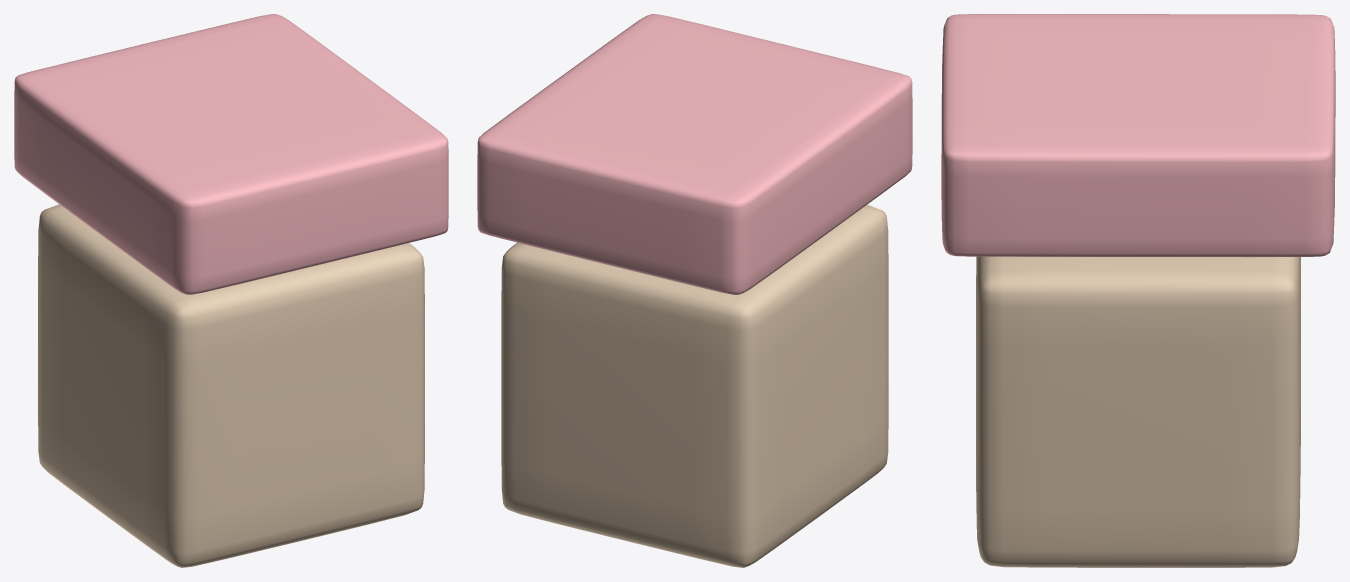
File: PROP_BirdHouse_v0.glb
The picture shows the model from 3 angles, left to right: view 1: azimuth 30°, elevation 25°; view 2: azimuth 150°, elevation 25°; view 3: azimuth 270°, elevation 25°; orthographic projection. The views are drawn at different scales.
Parts seen in each view (by area): view 1: PROP_BirdHouse_v0; view 2: PROP_BirdHouse_v0; view 3: PROP_BirdHouse_v0.
Part boxes in pixels (x1,y1,x2,y2): PROP_BirdHouse_v0: [14, 14, 448, 567]; PROP_BirdHouse_v0: [477, 14, 912, 567]; PROP_BirdHouse_v0: [941, 14, 1335, 567].
Bounding box in the file's own units: 1.06 × 1.45 × 1.21.
